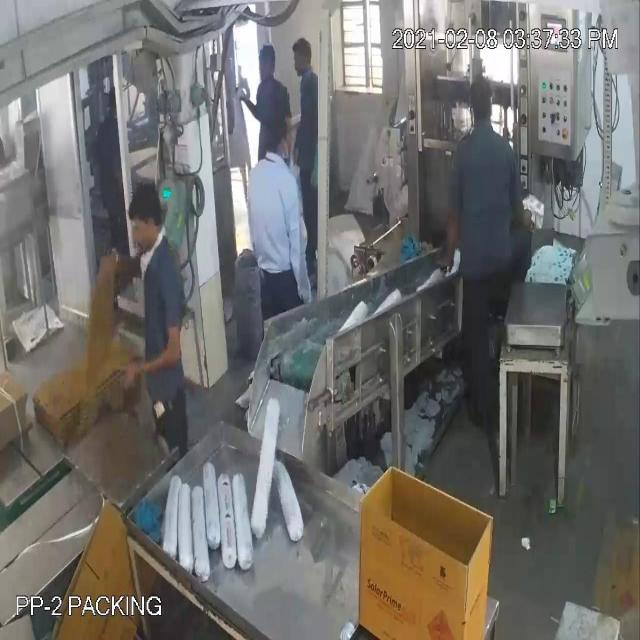No_Gloves: (120, 316, 198, 392)
